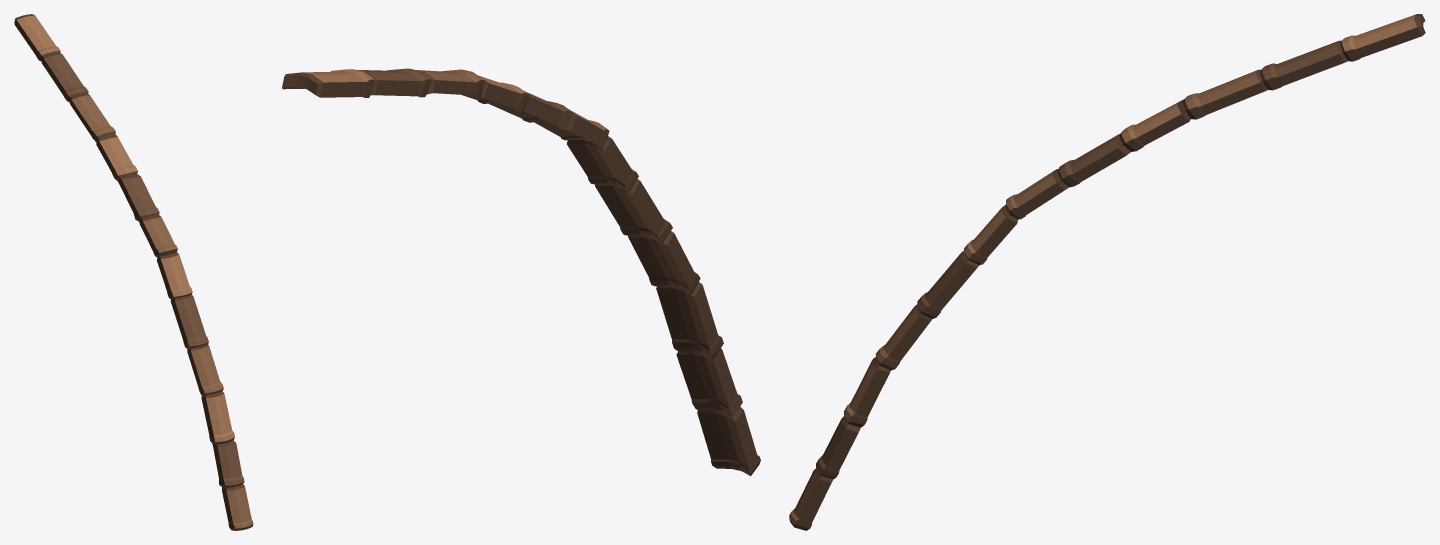
Rendered from SM_Bld_Roof_Dome_L_End_02.fbx.
3 views of the same model, side by side, from view 1: azimuth 30°, elevation 25°; view 2: azimuth 150°, elevation 25°; view 3: azimuth 270°, elevation 25° (orthographic). The views are drawn at different scales.
Visible parts, largest first — view 1: SM_Bld_Roof_Dome_L_End_02; view 2: SM_Bld_Roof_Dome_L_End_02; view 3: SM_Bld_Roof_Dome_L_End_02.
Part boxes in pixels (left/top/right/bottom): SM_Bld_Roof_Dome_L_End_02: left=14, top=14, right=253, bottom=530; SM_Bld_Roof_Dome_L_End_02: left=282, top=68, right=760, bottom=476; SM_Bld_Roof_Dome_L_End_02: left=789, top=14, right=1425, bottom=530.
Size of the model in its own units: 28.19 by 464 by 528.
